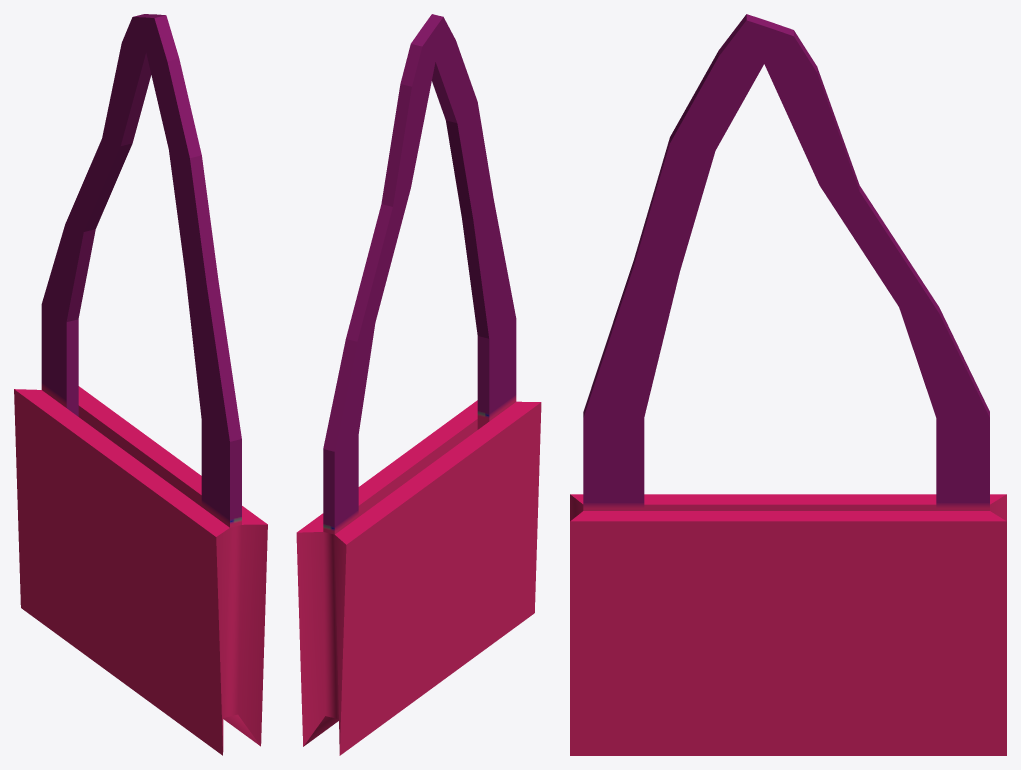
Rendered from hand_bag.fbx.
3 renders of one model, left to right at view 1: azimuth 30°, elevation 25°; view 2: azimuth 150°, elevation 25°; view 3: azimuth 270°, elevation 25°, orthographic. The views are drawn at different scales.
Visible parts, largest first — view 1: headbag; view 2: headbag; view 3: headbag.
Boxes of the visible parts, <box> form: headbag: <box>14,14,267,755</box>; headbag: <box>296,14,541,755</box>; headbag: <box>570,14,1006,755</box>.
Size of the model in its own units: 4.8 by 59.73 by 32.44.
